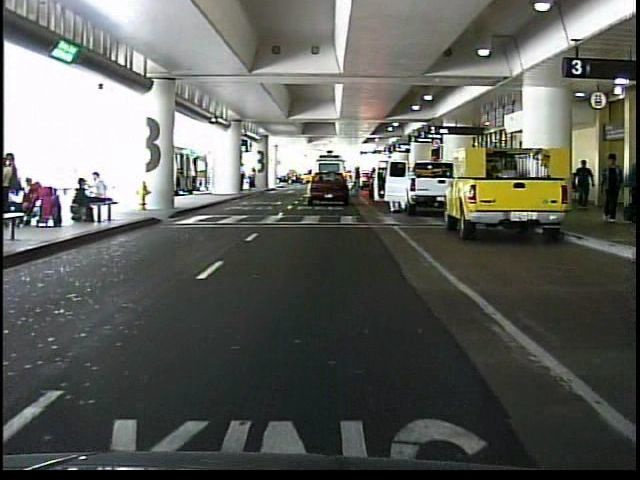person: (597, 150, 622, 223), (569, 156, 596, 213), (248, 167, 260, 192)
